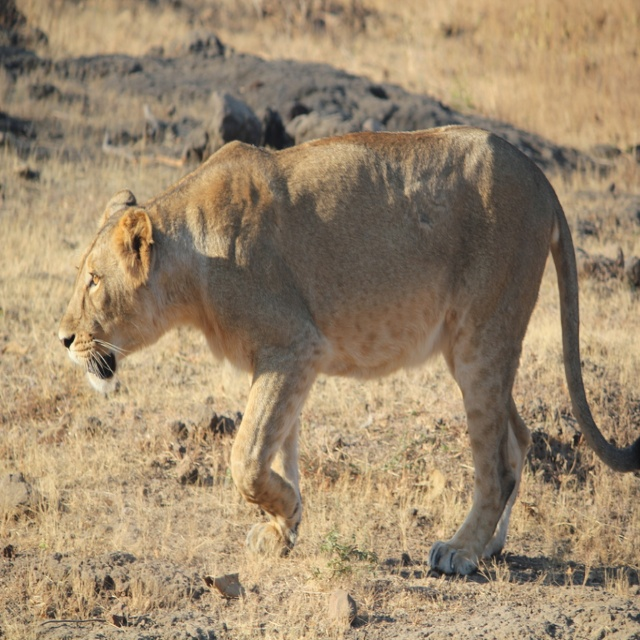Lion: (57, 127, 640, 575)
